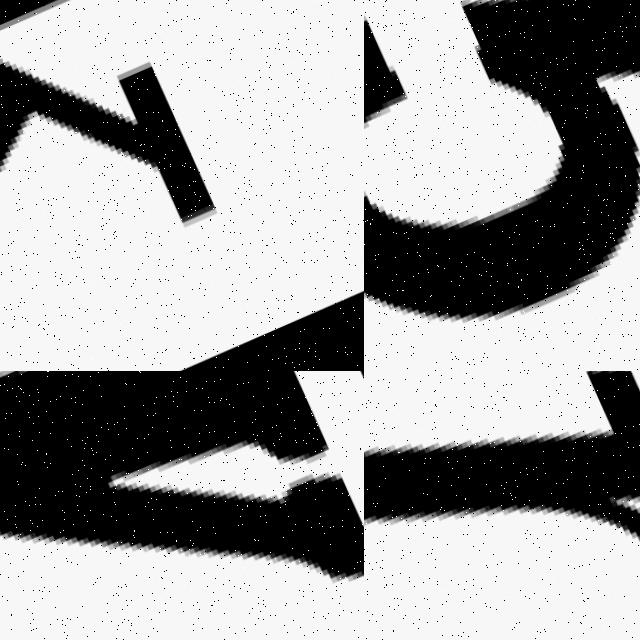5: (364, 0, 640, 371)
K: (0, 0, 364, 371)
N: (364, 371, 640, 640)
V: (0, 371, 364, 640)
